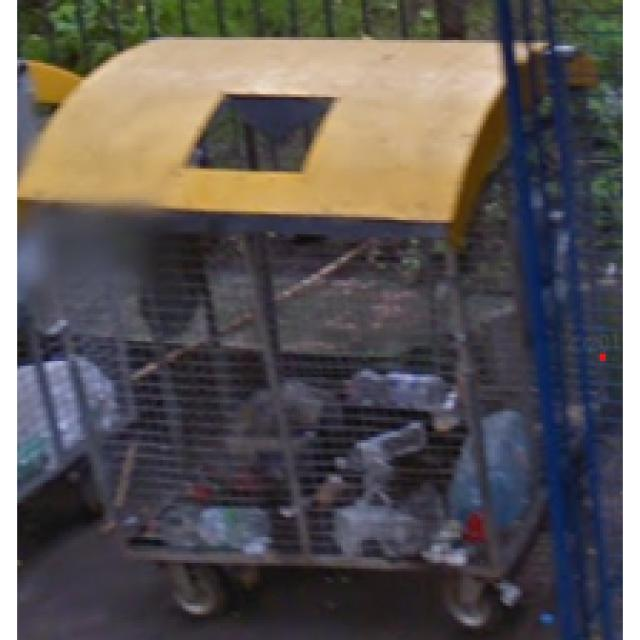plastic trash bin: (59, 33, 577, 635)
